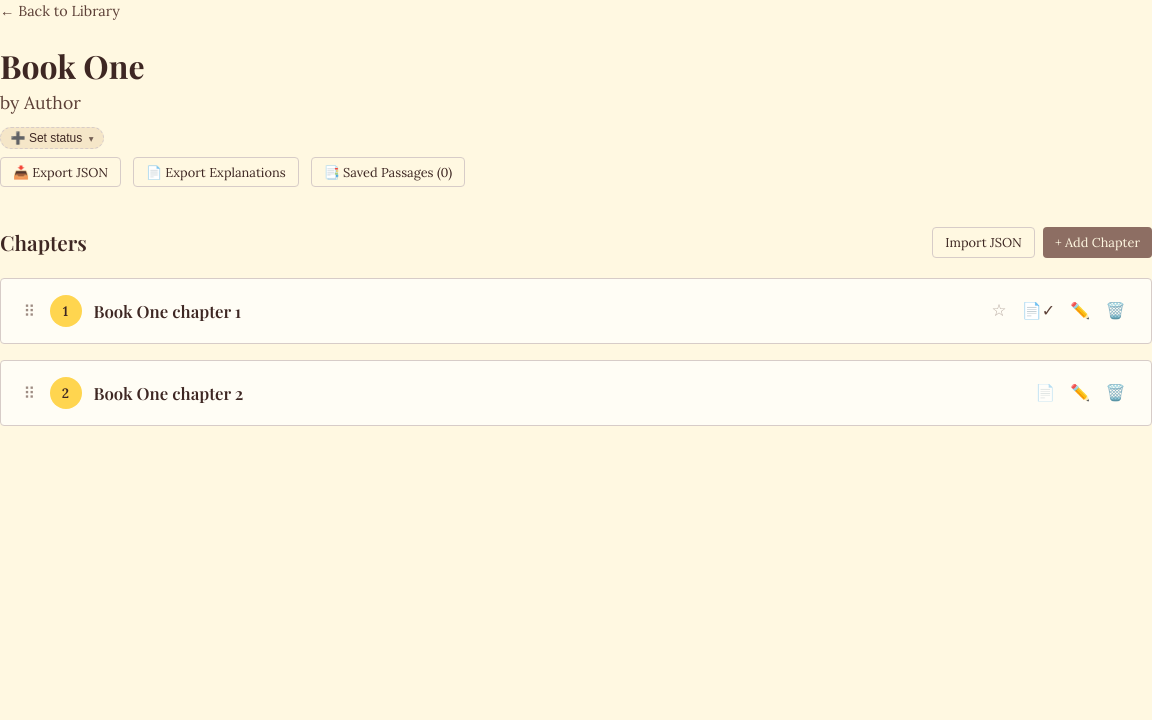
Test: book page failures › keeps the chapter form and its input when saving fails
Click the button "+ Add Chapter" at (1097, 242), box [1043,227,1151,258]
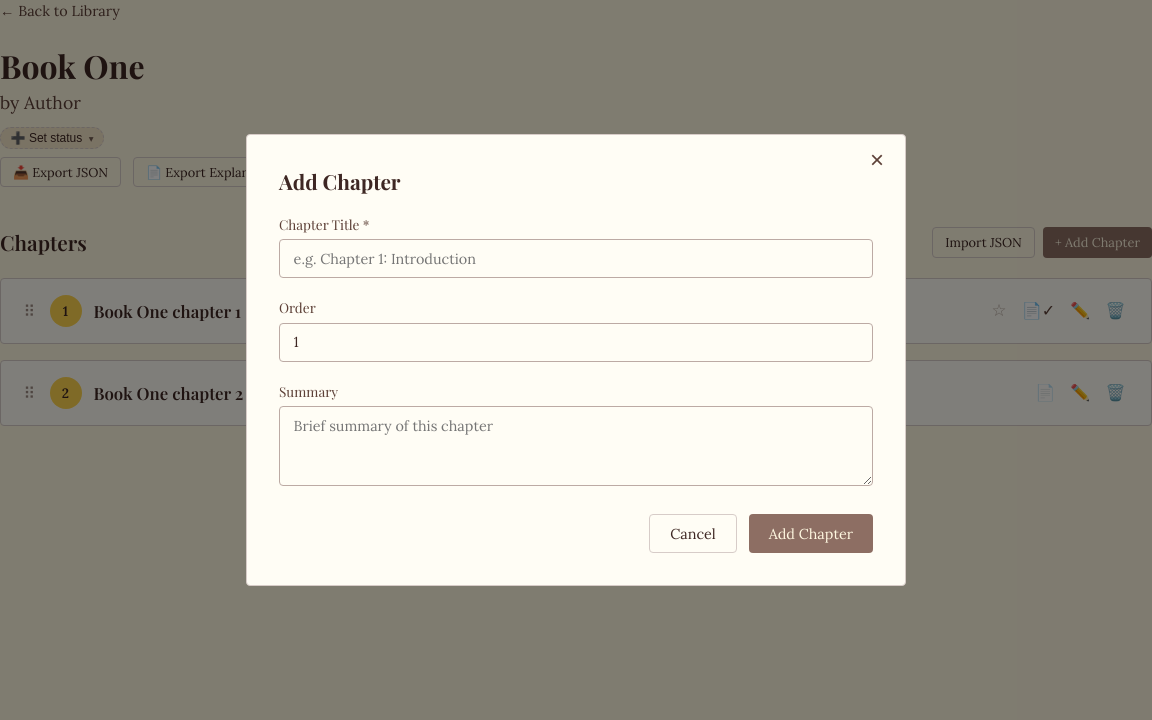
Type "New chapter" into the field with placeholder "e.g. Chapter 1: Introduction" at (576, 259), box [279,239,873,278]
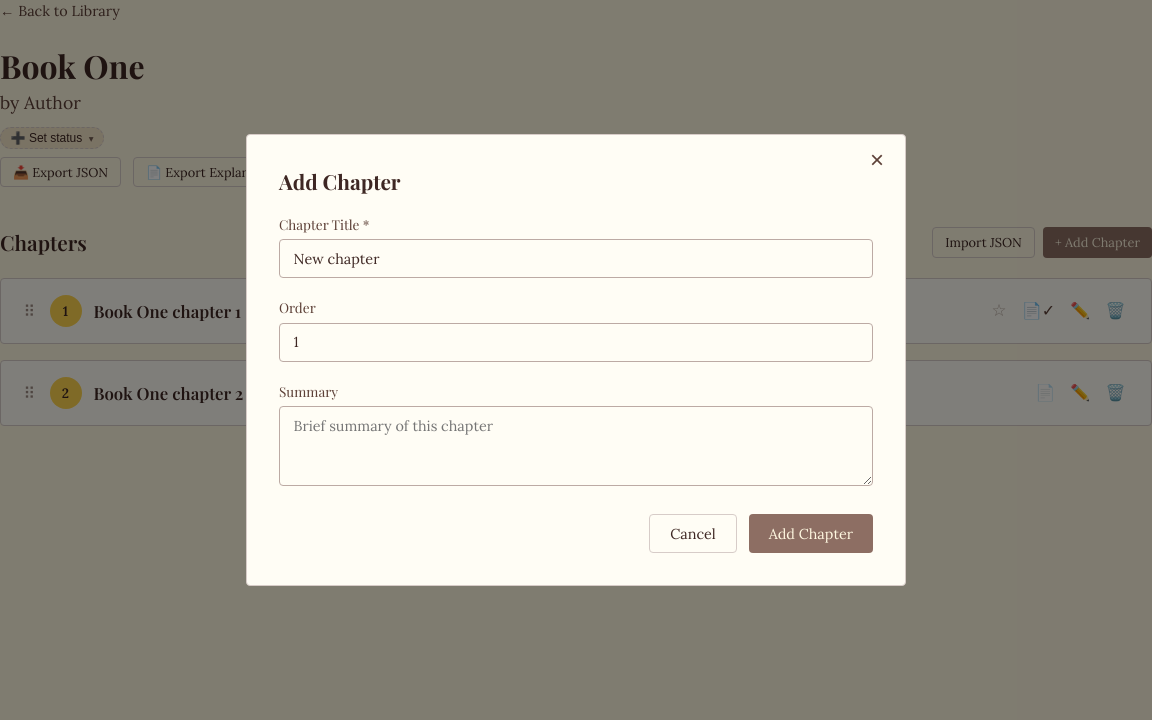
Click the button "Add Chapter" at (811, 534), box [749,514,873,553]
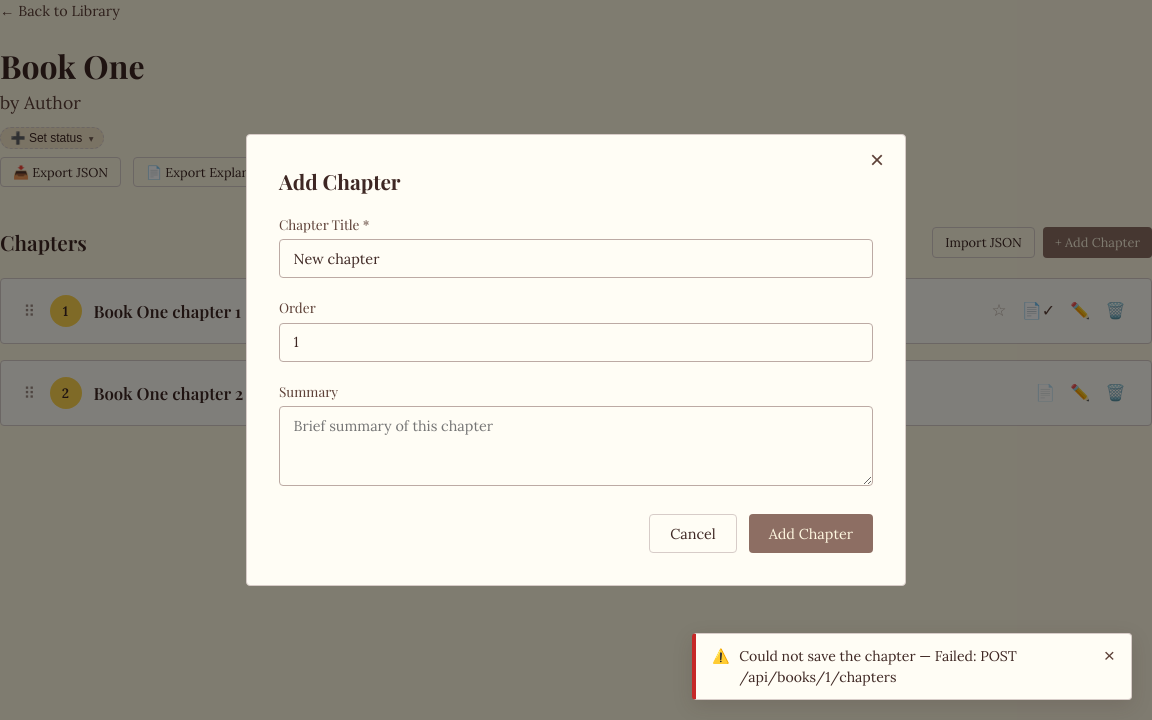
Expected: the message shows "Could not save the chapter — Failed: POST /api/books/1/chapters", [739,647,1017,686]
